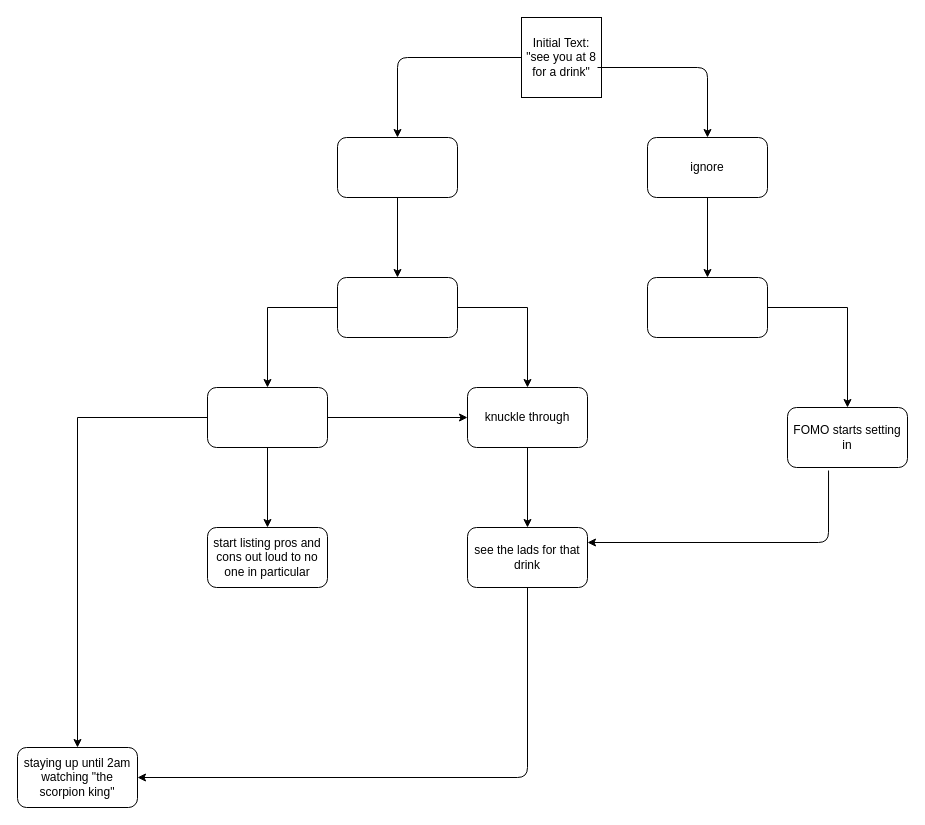
Image size: 925x825. Some labels were removed from this diagram. Here are the shapes that lost their labels. From the top down, the box of each, then its label:
(336, 136, 458, 198): text back: lets do it
(336, 276, 458, 338): getting tired.
(646, 276, 768, 338): another text
(206, 386, 328, 448): get stressed out trying to weasel out
